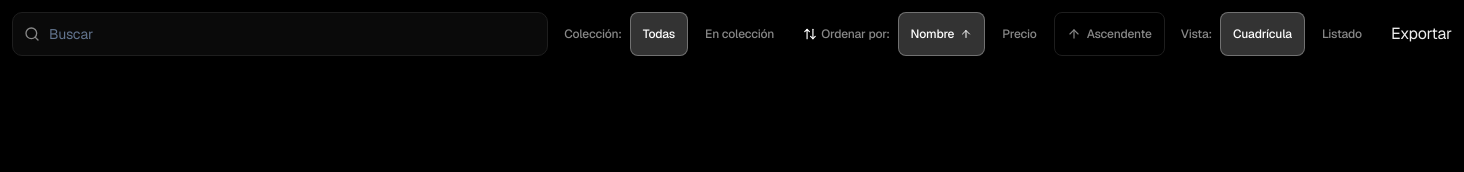
Test: shared view toolbar › keeps filters and search when changing display and toggles sort direction independently
In the search field: (280, 34) [12,12,548,56], type "Sol Ring"
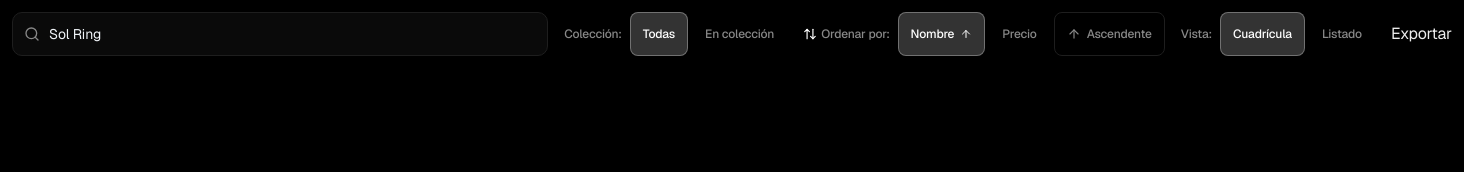
Click the button "En colección": (740, 34) [692,12,787,56]
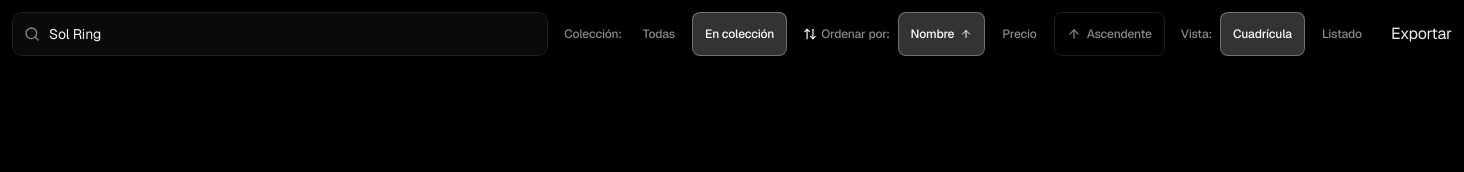
Click the button "Listado": (1342, 34) [1309,12,1375,56]
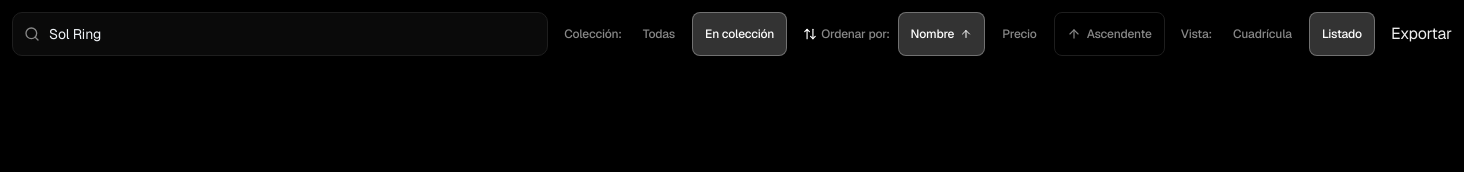
expect the button "En colección" is pressed: met, box [692,12,787,56]
expect the button "Listado" is pressed: met, box [1309,12,1375,56]
Click the button "Precio": (1019, 34) [989,12,1050,56]
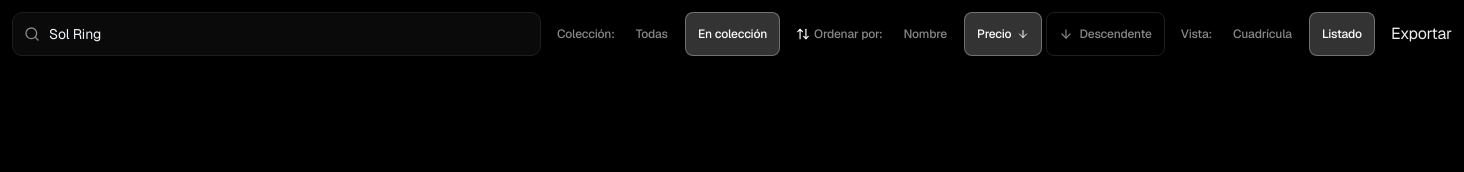
expect the button with aria-label "Orden descendente:" is shown: met
Click the button with aria-label "Orden descendente:": (1106, 34) [1046,12,1165,56]
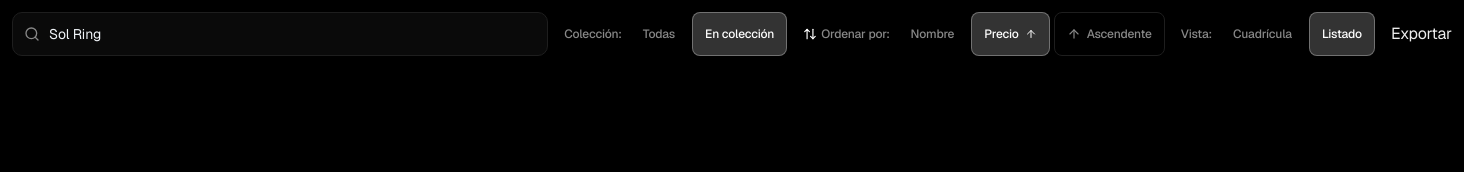
expect the button with aria-label "Orden ascendente:" is shown: met, box [1054,12,1165,56]
Click the button "Precio": (1010, 34) [971,12,1050,56]
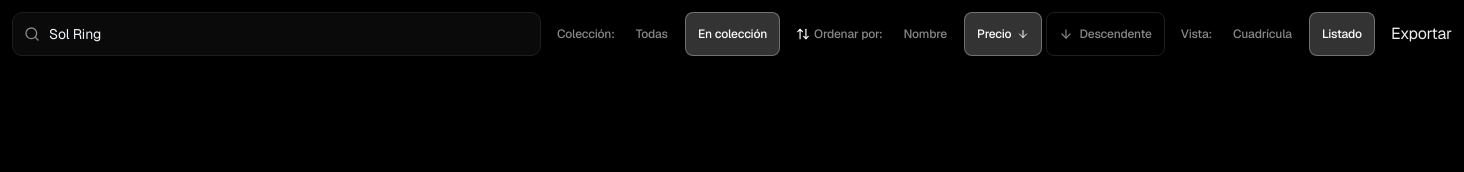
expect the button with aria-label "Orden descendente:" is shown: met, box [1046,12,1165,56]
